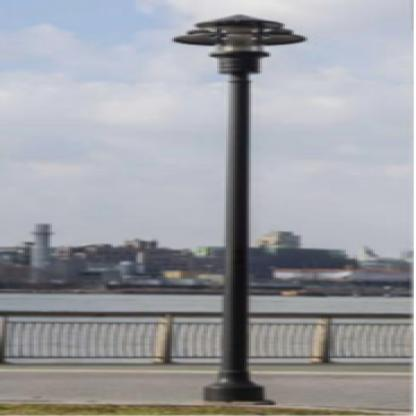Streetlights 1: (138, 8, 333, 402)
